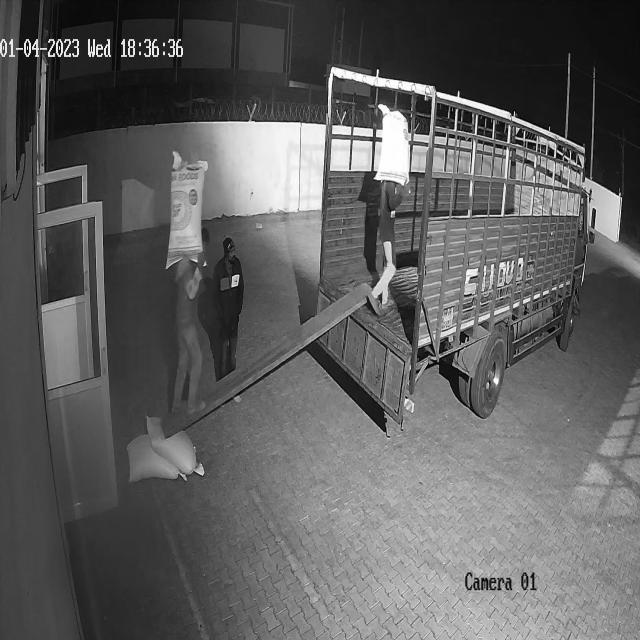sack: (165, 150, 208, 267), (145, 413, 205, 475), (374, 102, 412, 183), (126, 432, 186, 480)
